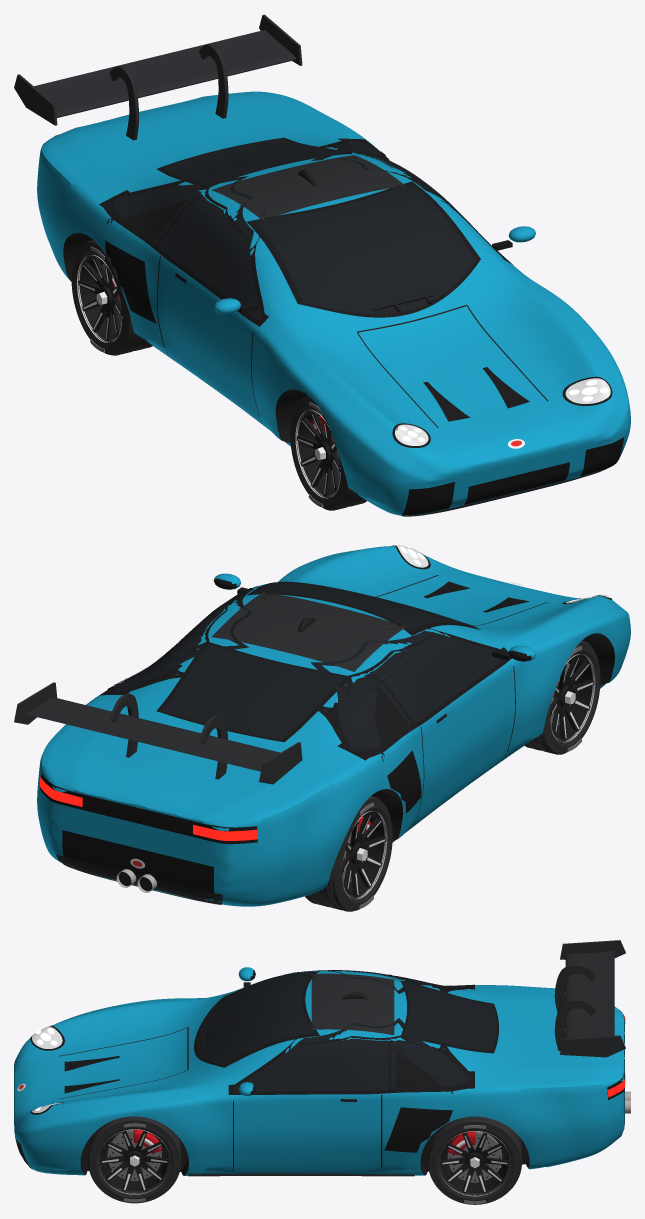
The picture shows the model from 3 angles, top to bottom: view 1: azimuth 30°, elevation 25°; view 2: azimuth 150°, elevation 25°; view 3: azimuth 270°, elevation 25°; orthographic projection. The views are drawn at different scales.
Visible parts, largest first — view 1: Body, Wheel_RR, Wheel_FR; view 2: Body, Wheel_RR, Wheel_FR; view 3: Body, Wheel_RL, Wheel_FL.
Part boxes in pixels (x1,y1,x2,y2): Body: (14, 14, 630, 516); Wheel_RR: (71, 240, 152, 355); Wheel_FR: (290, 396, 366, 510); Body: (14, 545, 630, 906); Wheel_RR: (305, 796, 392, 911); Wheel_FR: (524, 640, 600, 754); Body: (14, 940, 630, 1176); Wheel_RL: (428, 1116, 521, 1204); Wheel_FL: (88, 1116, 181, 1203).
Size of the model in its own units: 2.15 by 1.39 by 4.5.
